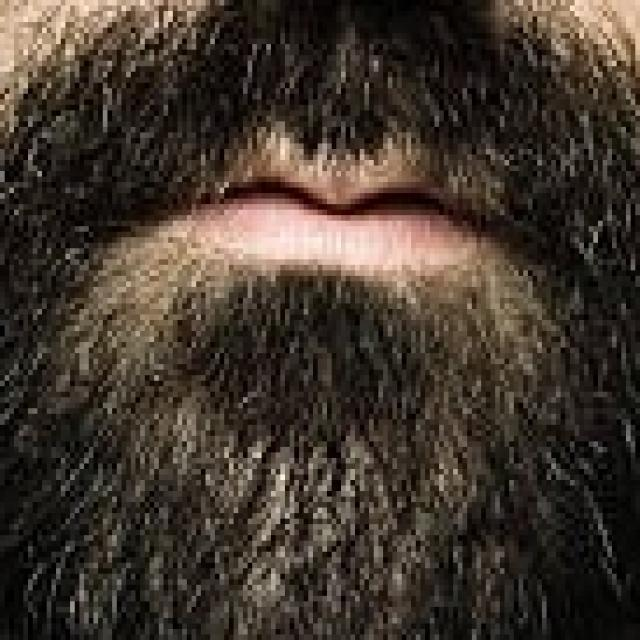closed-mouth: (216, 160, 459, 250)
